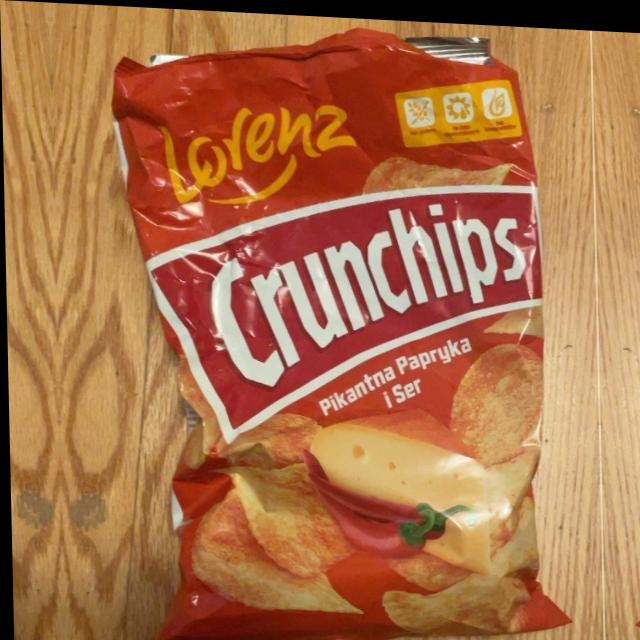crunchips: (140, 180, 543, 445)
